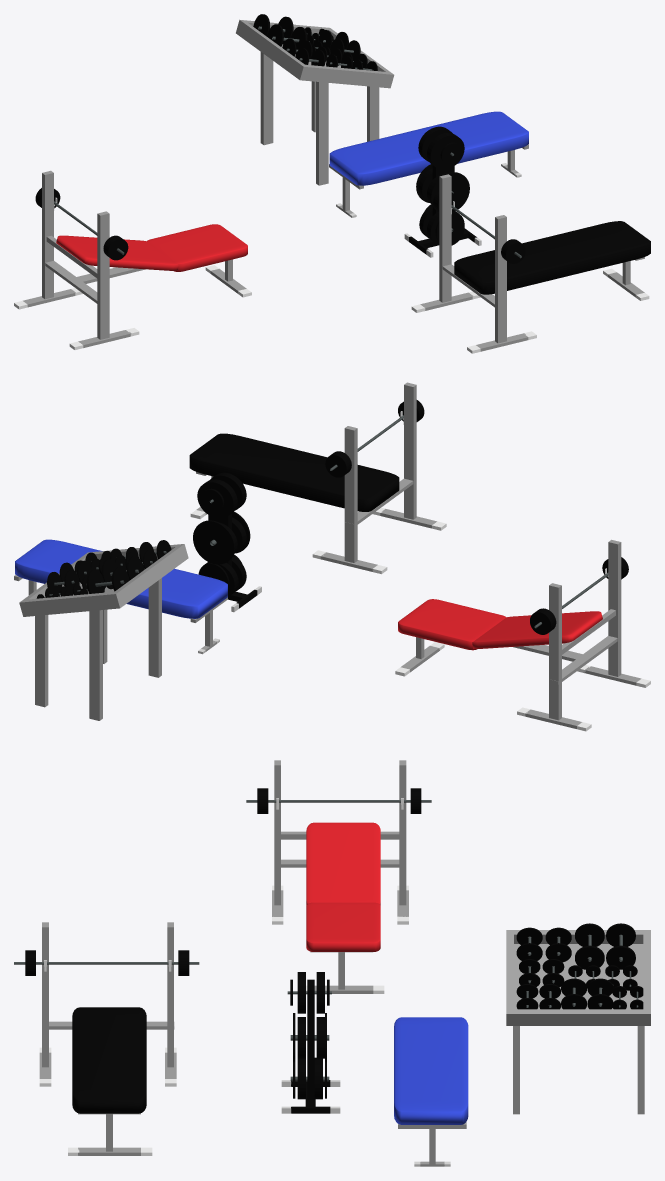
Rendered from gym.fbx.
The picture shows the model from 3 angles, top to bottom: view 1: azimuth 30°, elevation 25°; view 2: azimuth 150°, elevation 25°; view 3: azimuth 270°, elevation 25°; orthographic projection. The views are drawn at different scales.
Visible parts, largest first — view 1: Roundcube, Cube.004, Roundcube.002, Cube.001, Roundcube.001, Cube.009, Cylinder.022, Cylinder, Cylinder.001, Cylinder.019, Cylinder.004, Cylinder.005; view 2: Cube.004, Roundcube, Cube.001, Roundcube.001, Cube.009, Roundcube.002, Cylinder.022, Cylinder, Cylinder.001, Cylinder.020, Cylinder.005, Cylinder.004 (+1 smaller); view 3: Roundcube.001, Roundcube.002, Roundcube, Cube.004, Cube.009, Cube.001, Cylinder.004, Cylinder.005, Cylinder.001, Cylinder, Cube.011, Cylinder.003 (+3 smaller).
Boxes of the visible parts, bbox=[...] form: Roundcube: bbox=[454, 221, 650, 294]; Cube.004: bbox=[236, 19, 394, 185]; Roundcube.002: bbox=[329, 111, 528, 185]; Cube.001: bbox=[14, 170, 251, 349]; Roundcube.001: bbox=[56, 224, 247, 271]; Cube.009: bbox=[411, 174, 649, 353]; Cylinder.022: bbox=[416, 164, 469, 212]; Cylinder: bbox=[433, 192, 525, 263]; Cylinder.001: bbox=[35, 188, 128, 260]; Cylinder.019: bbox=[427, 133, 464, 169]; Cylinder.004: bbox=[267, 24, 307, 53]; Cylinder.005: bbox=[253, 14, 293, 44]; Cube.004: bbox=[19, 544, 188, 720]; Roundcube: bbox=[189, 433, 399, 511]; Cube.001: bbox=[395, 539, 650, 731]; Roundcube.001: bbox=[398, 599, 602, 650]; Cube.009: bbox=[190, 382, 446, 574]; Roundcube.002: bbox=[15, 539, 227, 618]; Cylinder.022: bbox=[193, 511, 250, 564]; Cylinder: bbox=[325, 400, 424, 477]; Cylinder.001: bbox=[530, 557, 628, 634]; Cylinder.020: bbox=[197, 479, 237, 518]; Cylinder.005: bbox=[86, 567, 129, 593]; Cylinder.004: bbox=[101, 556, 144, 589]; Roundcube.001: bbox=[306, 822, 380, 951]; Roundcube.002: bbox=[394, 1017, 468, 1124]; Roundcube: bbox=[72, 1007, 146, 1113]; Cube.004: bbox=[506, 930, 650, 1114]; Cube.009: bbox=[39, 922, 176, 1155]; Cube.001: bbox=[272, 760, 408, 993]; Cylinder.004: bbox=[575, 923, 604, 969]; Cylinder.005: bbox=[606, 923, 635, 969]; Cylinder.001: bbox=[246, 788, 431, 813]; Cylinder: bbox=[14, 950, 199, 975]; Cube.011: bbox=[307, 979, 314, 1099]; Cylinder.003: bbox=[545, 927, 571, 962].
Size of the model in its own units: 804 by 208 by 769.
